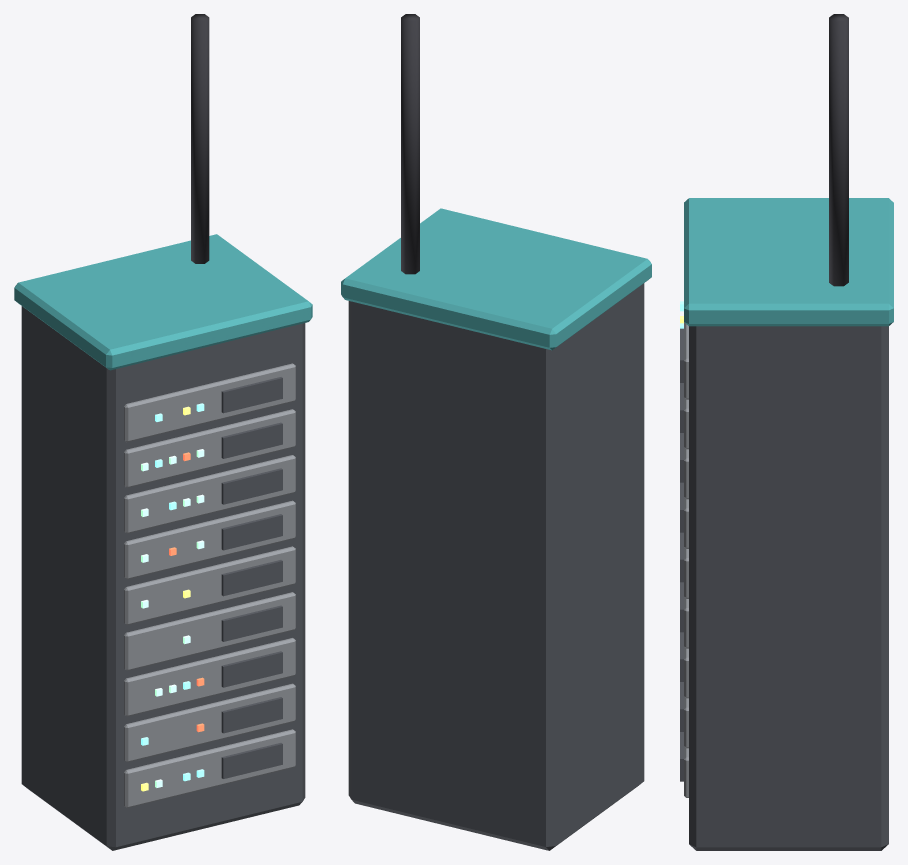
The model's file is server_rack.glb.
3 renders of one model, left to right at view 1: azimuth 30°, elevation 25°; view 2: azimuth 150°, elevation 25°; view 3: azimuth 270°, elevation 25°, orthographic. The views are drawn at different scales.
Parts seen in each view (by area): view 1: server_rack; view 2: server_rack; view 3: server_rack.
Part boxes in pixels (x1,y1,x2,y2): server_rack: (14,14,312,850); server_rack: (341,14,651,850); server_rack: (680,14,893,850).
Bounding box in the file's own units: 1.04 × 3.6 × 0.855.
